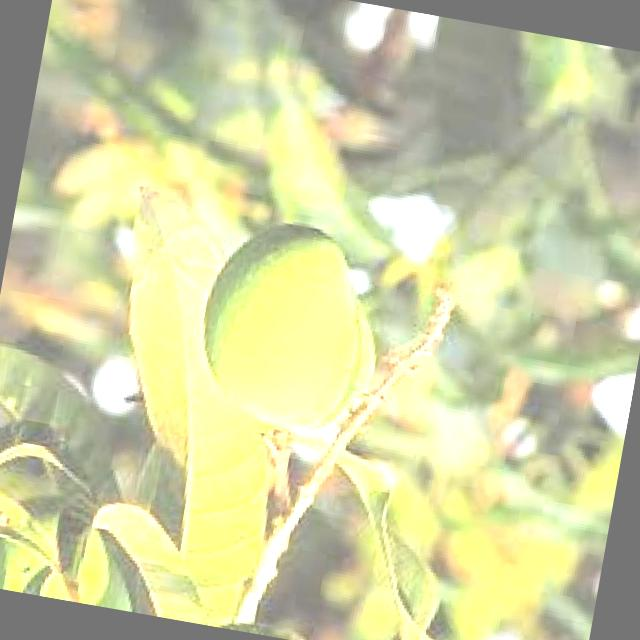Mango: (186, 212, 398, 445)
